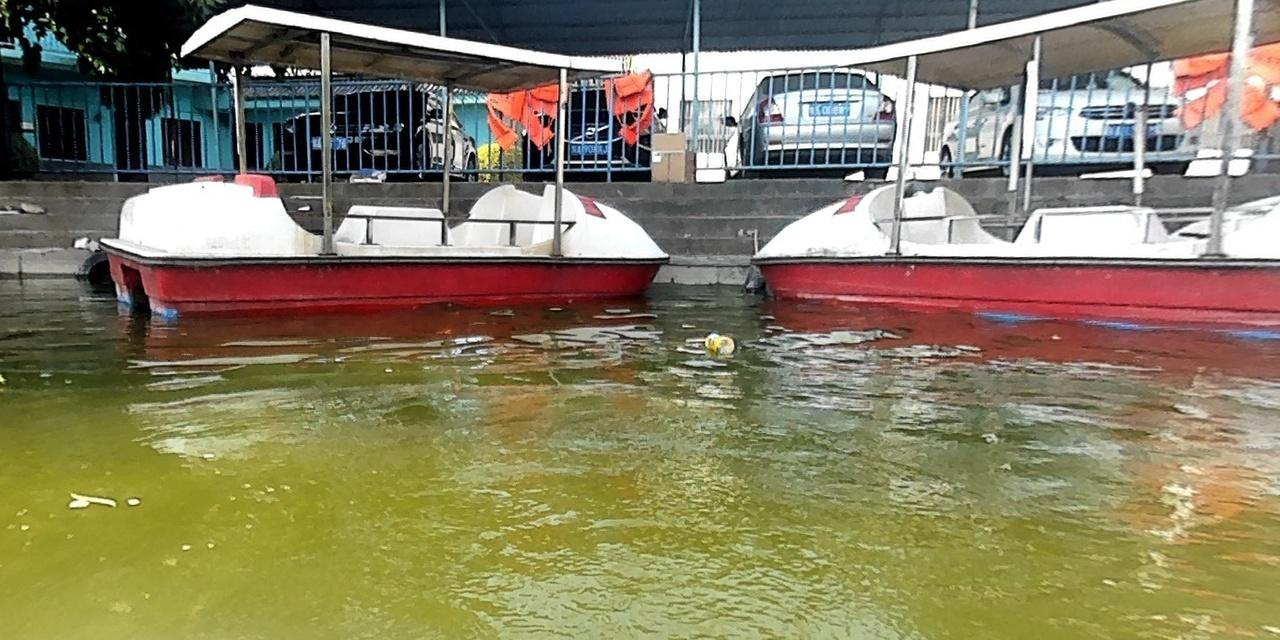bottle: (704, 331, 733, 355)
